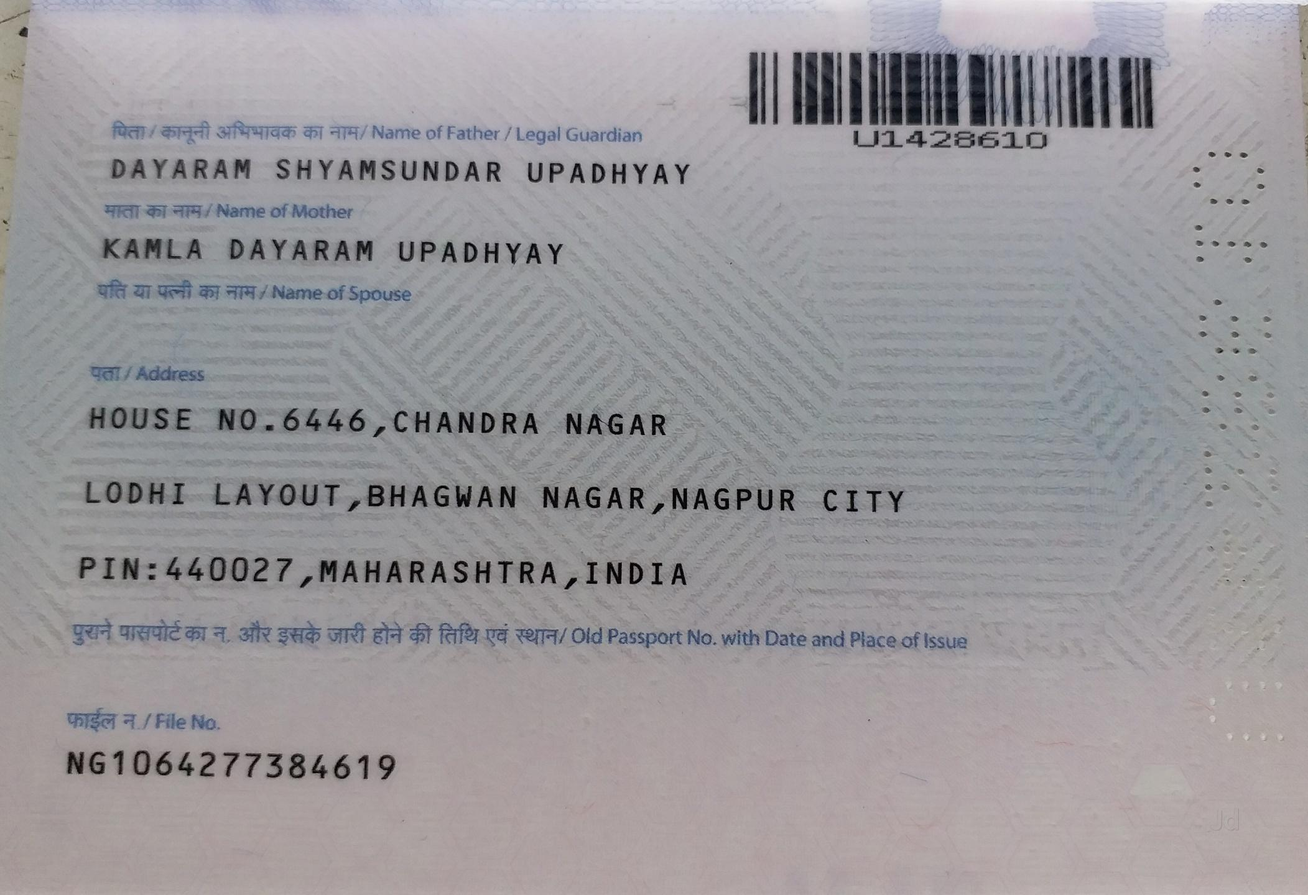File_no: (54, 738, 419, 798)
address: (75, 387, 935, 611)
father_name: (84, 145, 701, 199)
mother_name: (81, 225, 581, 274)
passport_no: (844, 116, 1057, 166)
